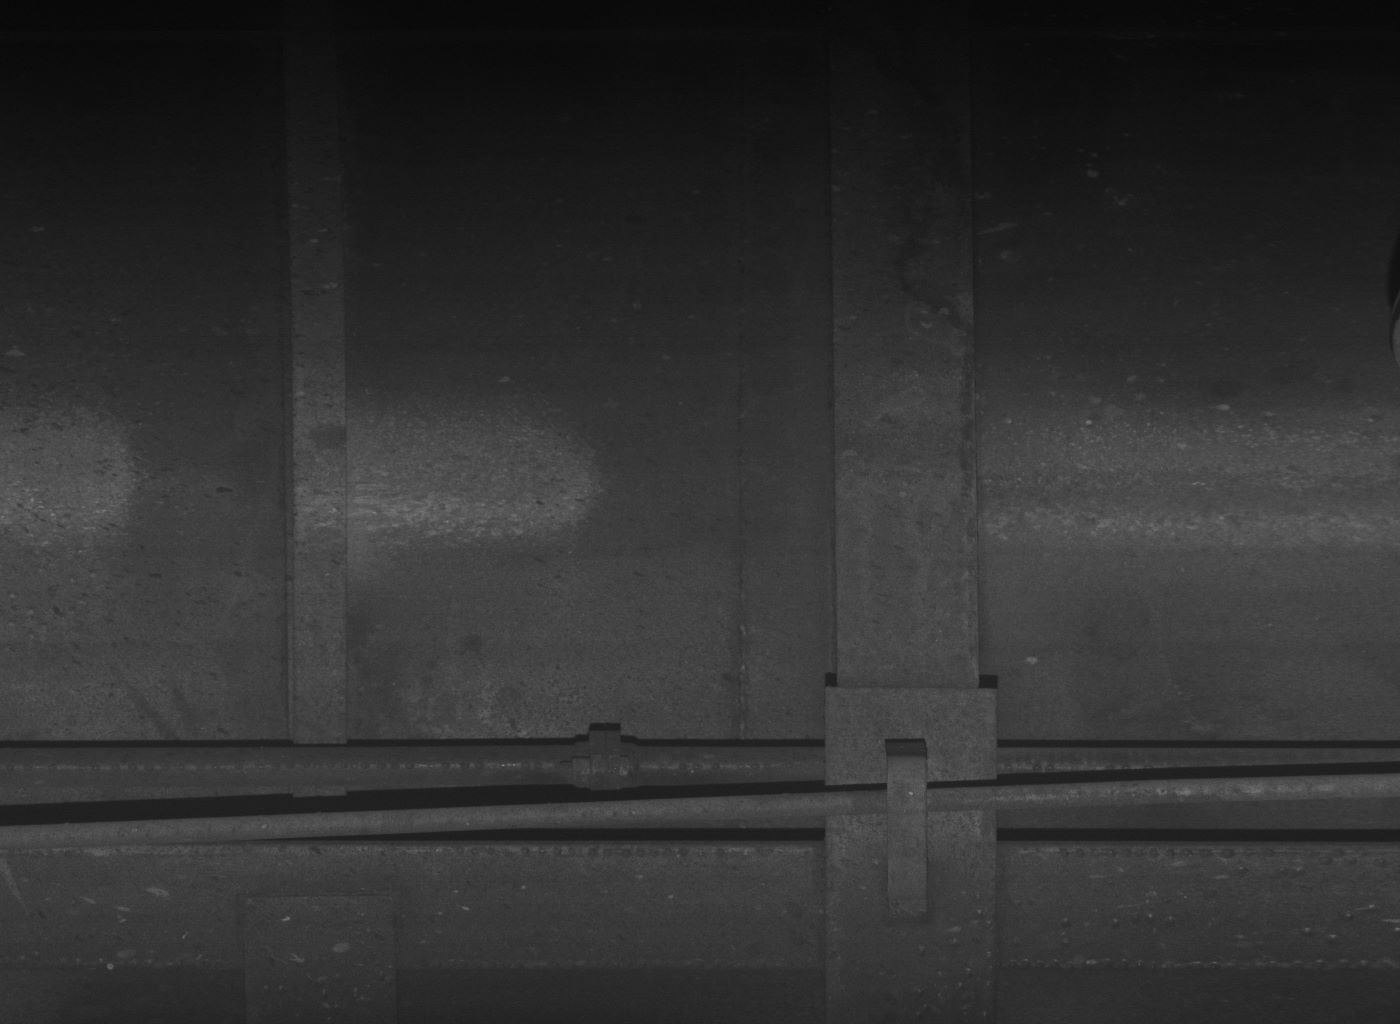normal: (882, 738, 929, 934)
